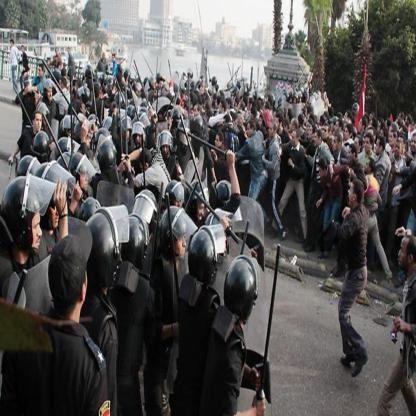face: (29, 204, 43, 253), (46, 191, 60, 229), (175, 229, 187, 255), (399, 239, 409, 269), (79, 167, 90, 191), (195, 199, 204, 223), (174, 195, 182, 217), (35, 114, 43, 132), (161, 141, 169, 159), (322, 126, 329, 142), (349, 184, 354, 204), (136, 131, 143, 145), (48, 86, 54, 102), (215, 135, 221, 151), (314, 131, 320, 146), (365, 138, 371, 153), (376, 140, 382, 155), (366, 161, 373, 173), (389, 133, 395, 146), (141, 160, 146, 175), (334, 137, 339, 152), (396, 142, 401, 157), (194, 106, 200, 118), (219, 102, 225, 113), (292, 135, 297, 148), (291, 120, 296, 133), (355, 139, 360, 152), (349, 149, 354, 162), (345, 127, 350, 140), (412, 136, 416, 152), (271, 124, 275, 138), (359, 120, 364, 131), (248, 123, 252, 136), (321, 165, 325, 178), (309, 126, 313, 139), (226, 100, 231, 110), (250, 109, 255, 118), (223, 120, 227, 131), (331, 123, 335, 134), (159, 75, 163, 84), (336, 122, 340, 131), (344, 113, 347, 125), (264, 105, 268, 113), (39, 68, 42, 78), (153, 78, 156, 87), (202, 77, 205, 86), (248, 98, 251, 106), (189, 71, 192, 78), (239, 104, 242, 111), (68, 48, 71, 54), (260, 119, 262, 128), (104, 54, 107, 59), (56, 47, 58, 54), (22, 48, 24, 54), (113, 56, 115, 61), (11, 42, 13, 45)
